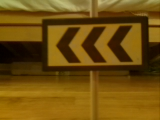left: (43, 20, 147, 71)
